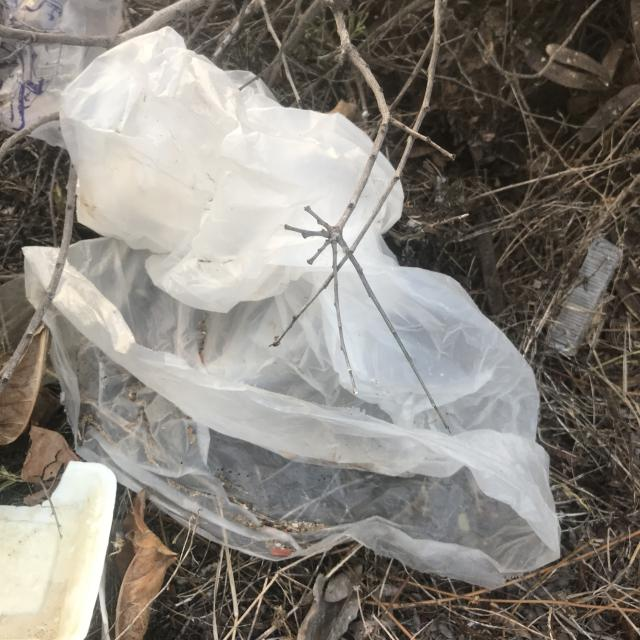Single-layer Plastic: (7, 17, 568, 601)
